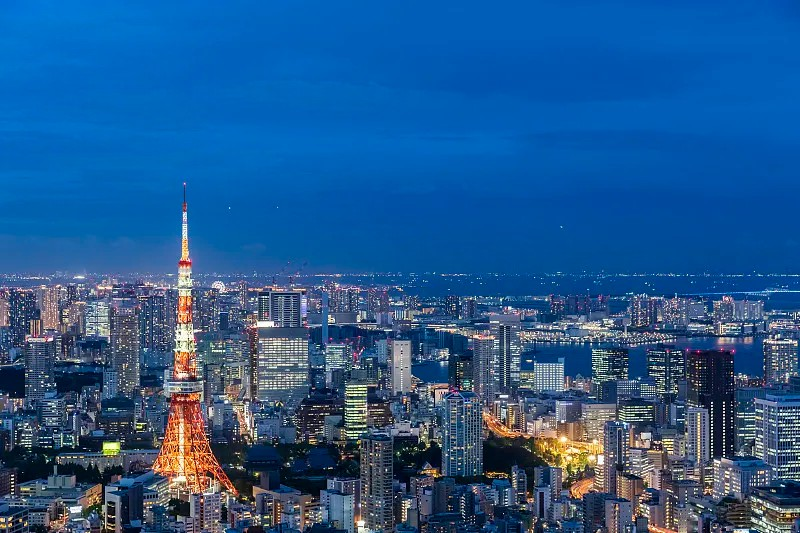Tokyo: (149, 179, 238, 498)
